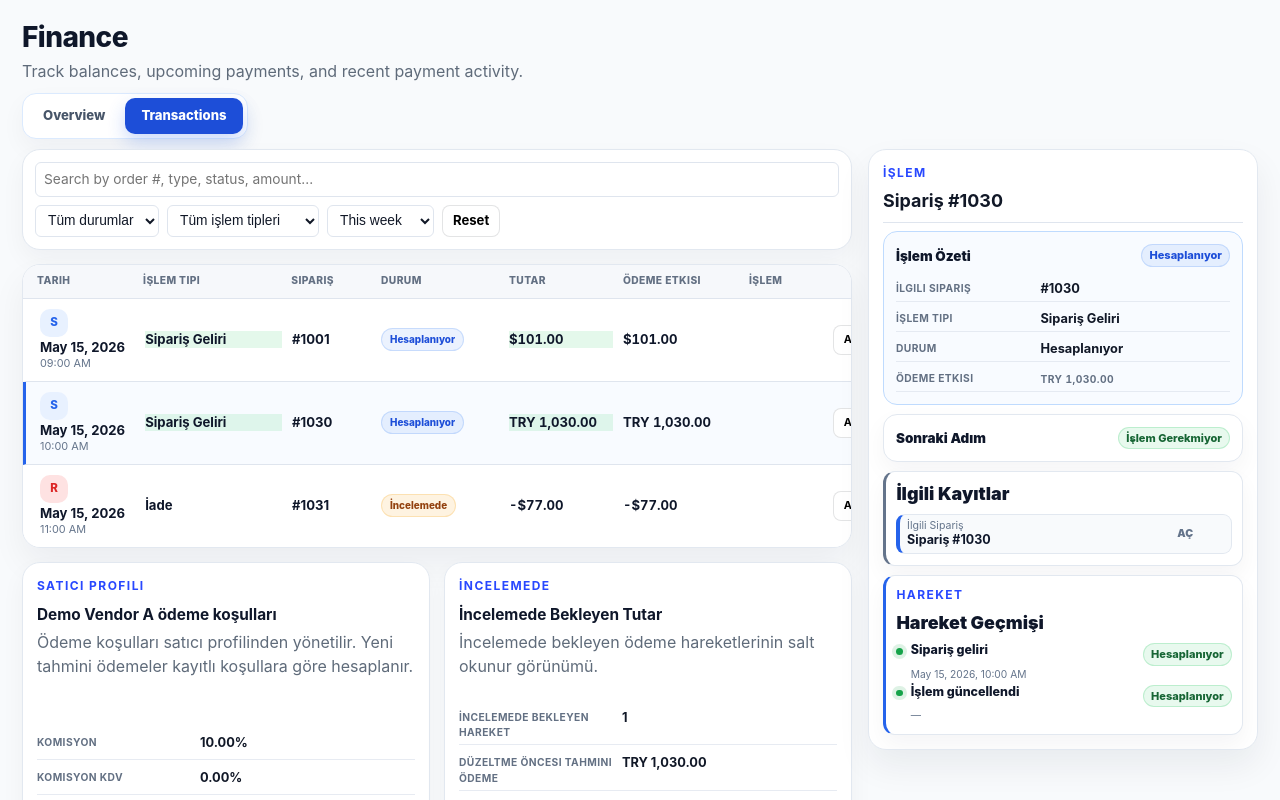
Test: operational deep-link smoke navigation › navigates Finance linked Order to Orders workspace and selects the target order
Expected: the heading "İşlem Özeti" is shown, x1=896 y1=246 x2=971 y2=266
Expected: the 2nd text "#1030" is shown, x1=292 y1=414 x2=332 y2=430
Click the link "İlgili Sipariş Sipariş #1030 Aç" at (935,526), box x1=896 y1=514 x2=1232 y2=554
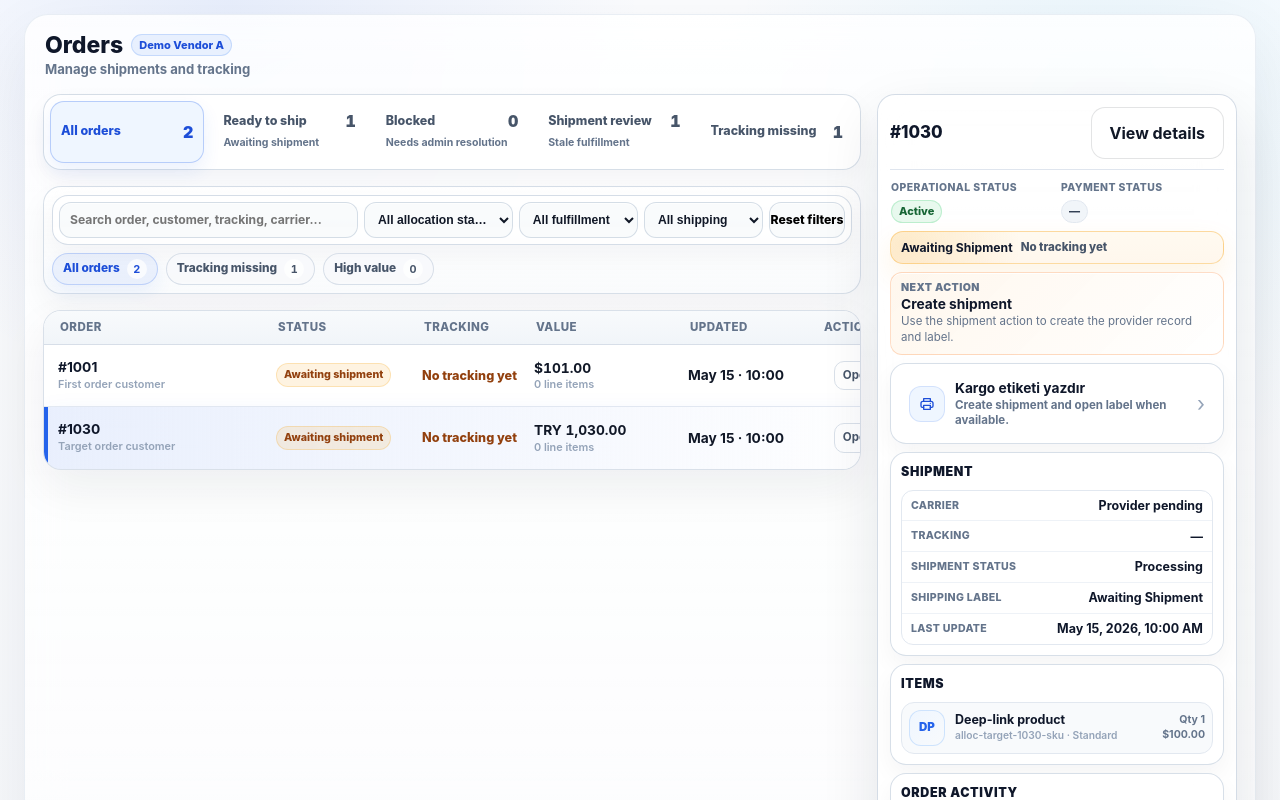
Result: the text "Target order customer" is shown at x1=58 y1=439 x2=175 y2=453
